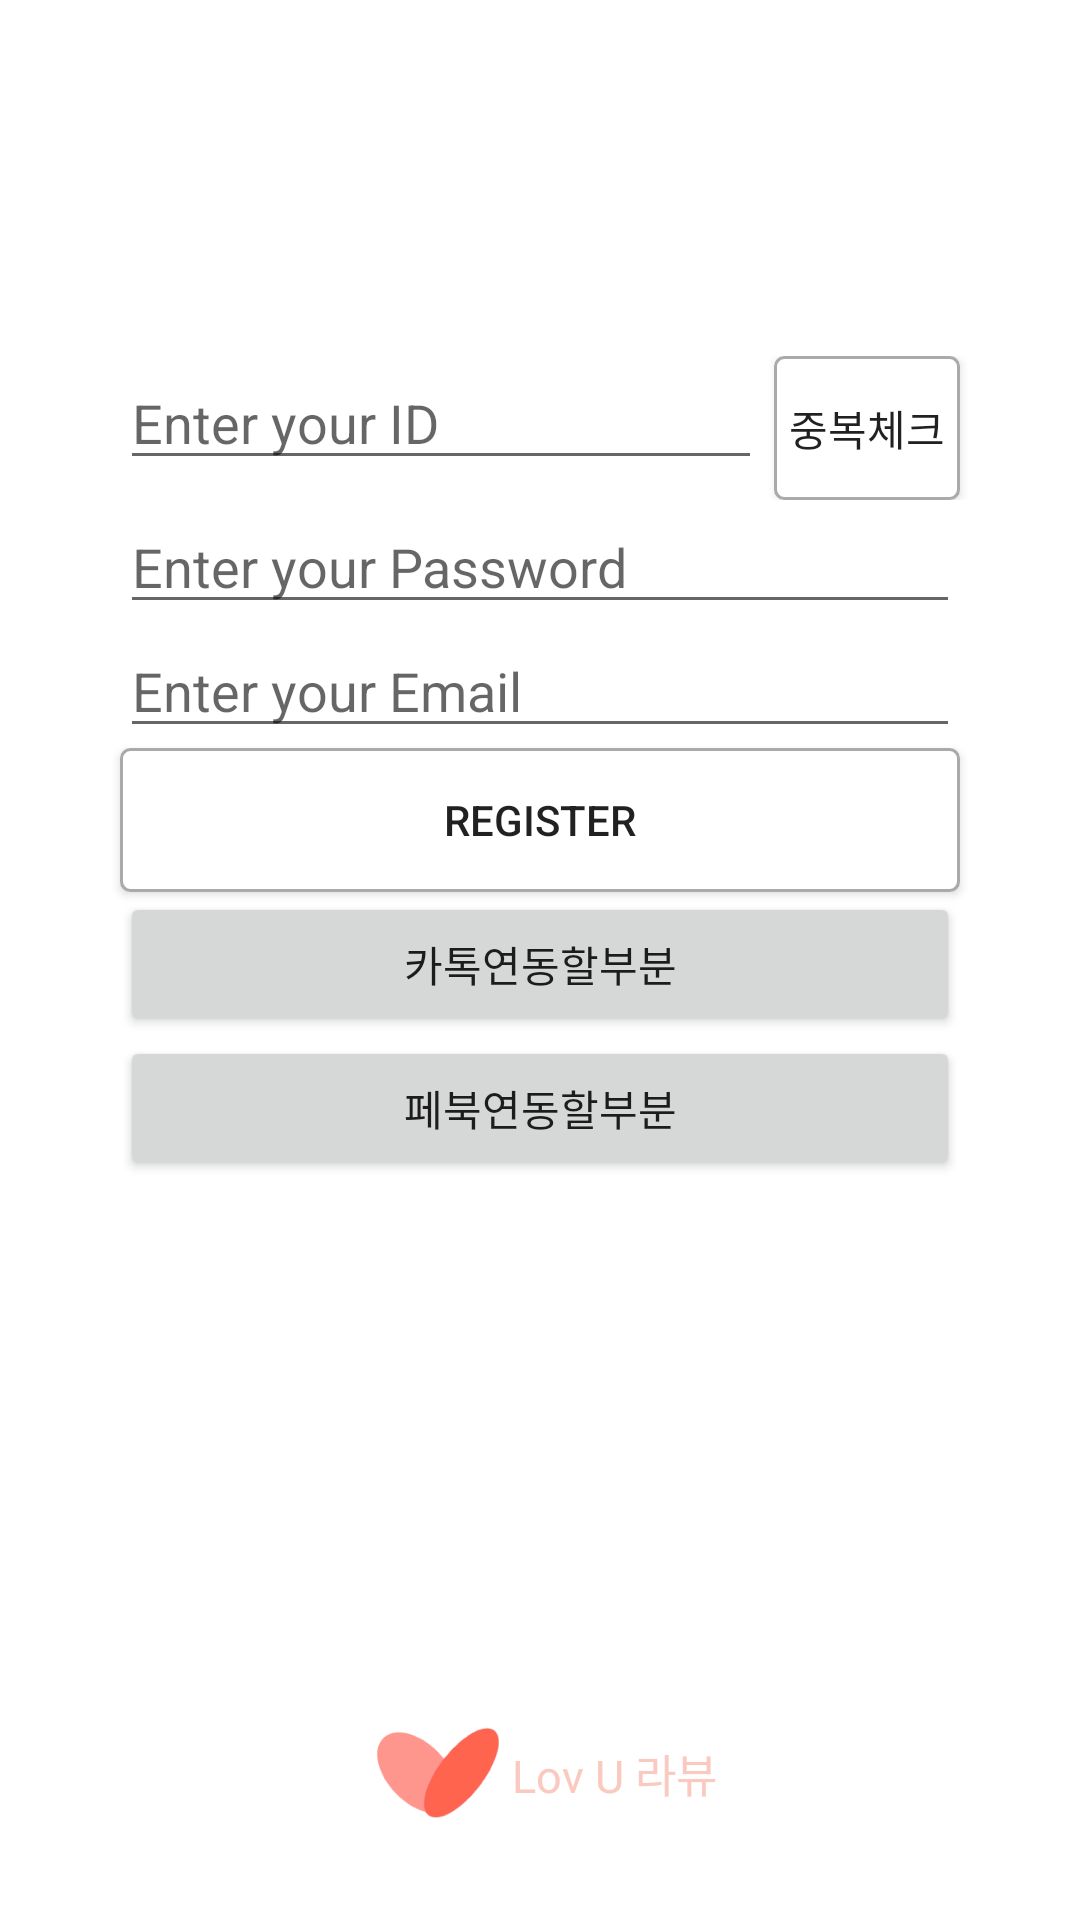

Icon bounding boxes for this 1080px×1920px phone screenshot, format (x1,y1,x2,y2):
heart: (377,1728,499,1818)
